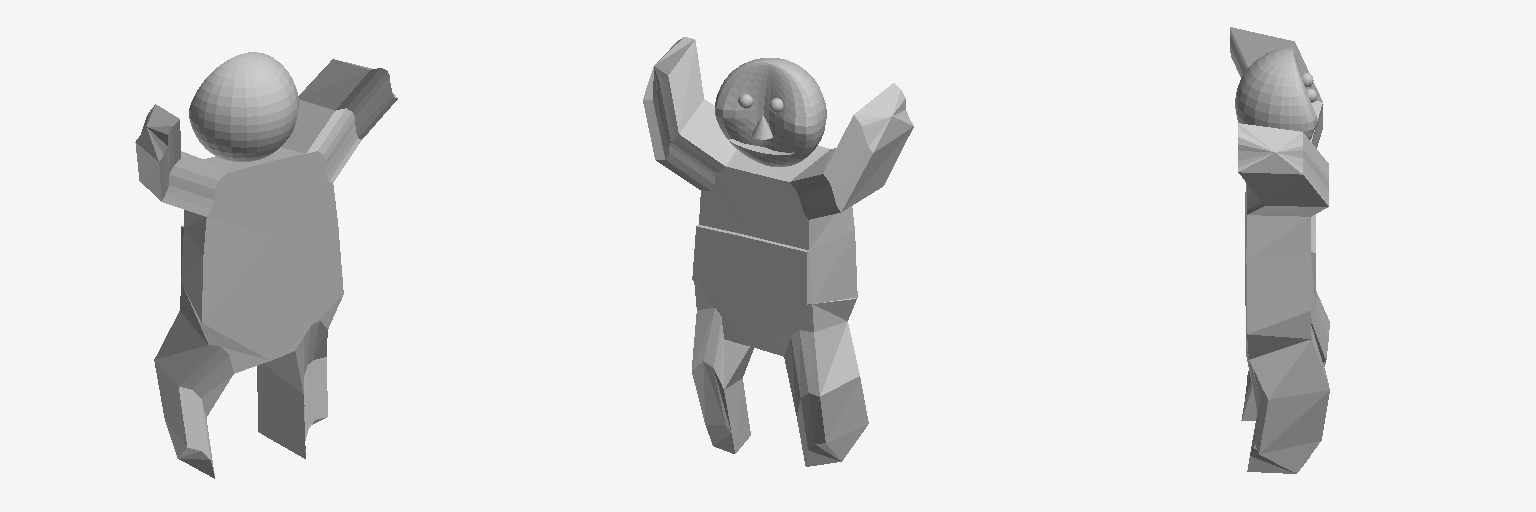
The model's file is manjump_000003.obj.
3 renders of one model, left to right at view 1: azimuth 30°, elevation 25°; view 2: azimuth 150°, elevation 25°; view 3: azimuth 270°, elevation 25°, orthographic.
Parts seen in each view (by area): view 1: Cube; view 2: Cube; view 3: Cube.
Boxes of the visible parts, <box> form: Cube: <box>135,52,397,478</box>; Cube: <box>643,37,913,466</box>; Cube: <box>1230,27,1329,473</box>.
Size of the model in its own units: 81.23 by 128 by 29.01.